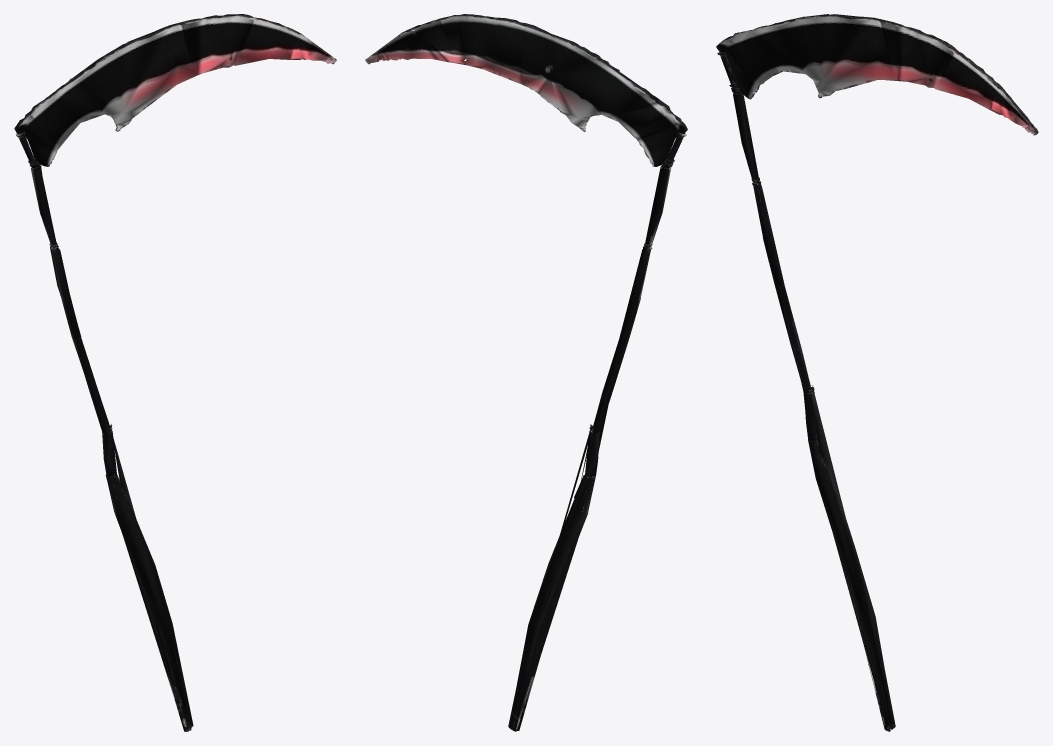
The model's file is 1724_sickle.glb.
The picture shows the model from 3 angles, left to right: view 1: azimuth 30°, elevation 25°; view 2: azimuth 150°, elevation 25°; view 3: azimuth 330°, elevation 25°; orthographic projection.
Parts seen in each view (by area): view 1: Model; view 2: Model; view 3: Model.
Part boxes in pixels (left/top/right/bottom): Model: left=14, top=14, right=336, bottom=731; Model: left=365, top=14, right=687, bottom=731; Model: left=716, top=14, right=1038, bottom=731.
Bounding box in the file's own units: 0.4738 × 1 × 0.0156.
1 material, 1 textured.
